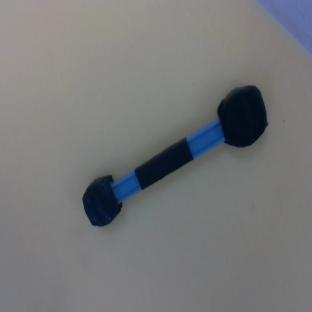part_3_bad: (68, 78, 280, 231)
